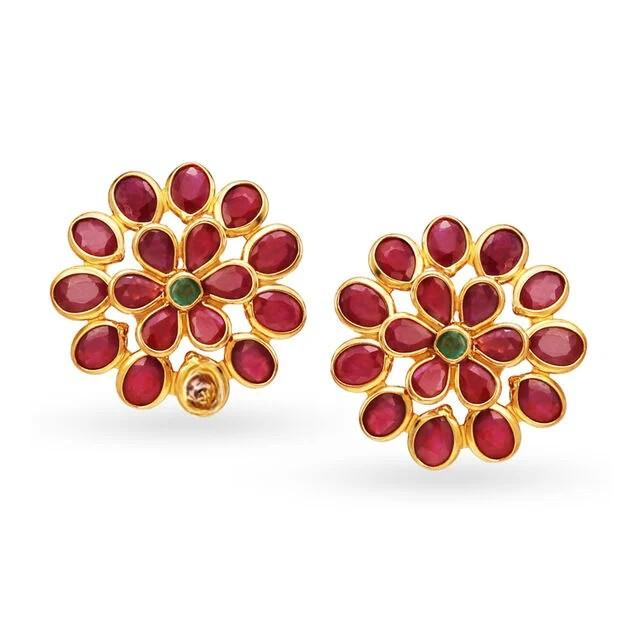missing gem: (185, 365, 221, 409)
